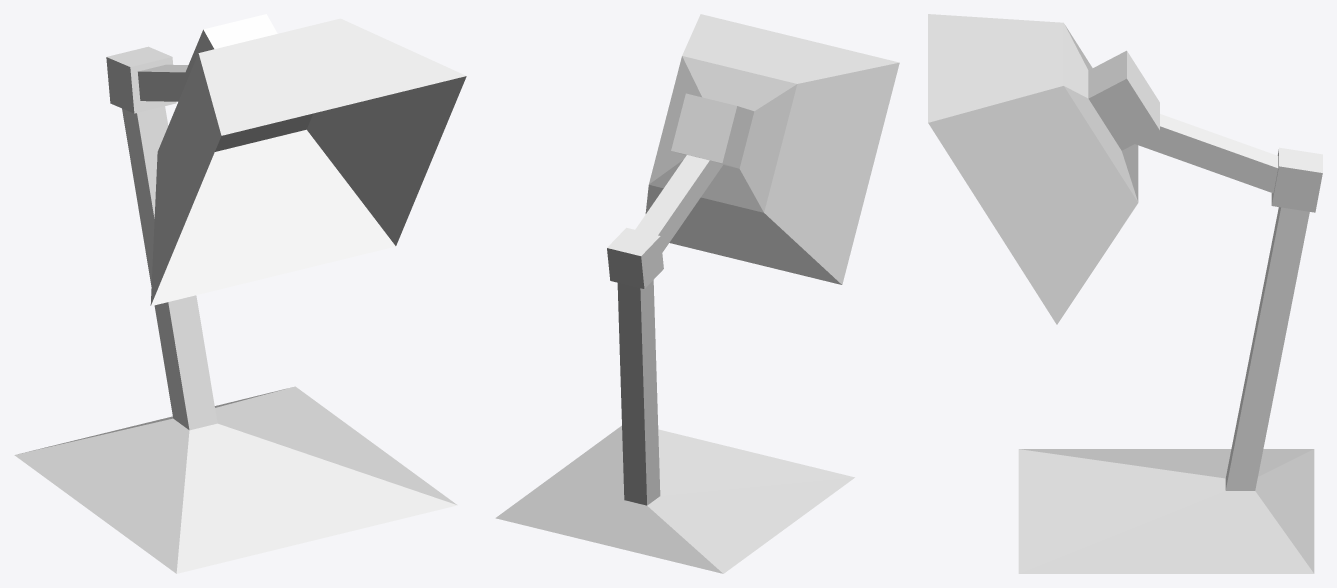
File: low_poly_lamp.fbx
3 views of the same model, side by side, from view 1: azimuth 30°, elevation 25°; view 2: azimuth 150°, elevation 25°; view 3: azimuth 270°, elevation 25° (orthographic). The views are drawn at different scales.
Visible parts, largest first — view 1: Cube.019; view 2: Cube.019; view 3: Cube.019.
Boxes of the visible parts, box(x1,y1,x2,y2) form: Cube.019: box(14, 14, 466, 573); Cube.019: box(495, 14, 899, 573); Cube.019: box(928, 14, 1322, 573).
Size of the model in its own units: 102 by 167 by 134.
